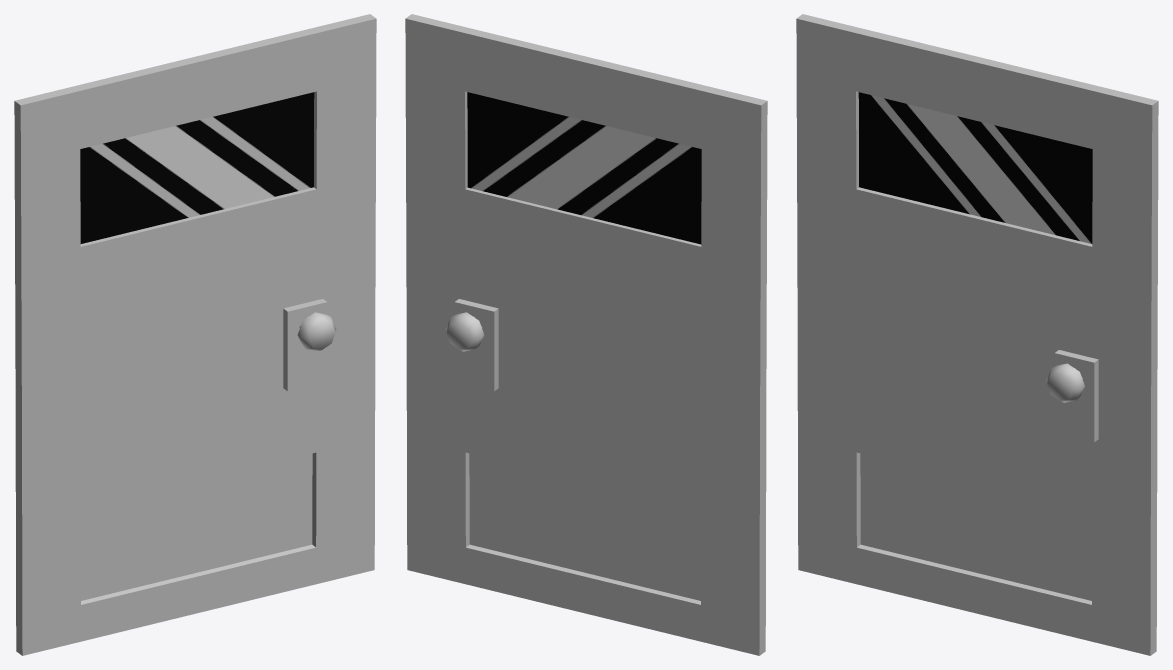
The model's file is door03b.fbx.
3 renders of one model, left to right at view 1: azimuth 30°, elevation 25°; view 2: azimuth 150°, elevation 25°; view 3: azimuth 330°, elevation 25°, orthographic.
Visible parts, largest first — view 1: door03b; view 2: door03b; view 3: door03b.
Part boxes in pixels (left/top/right/bottom): door03b: left=14, top=14, right=376, bottom=655; door03b: left=405, top=14, right=767, bottom=655; door03b: left=796, top=14, right=1158, bottom=655.
Bounding box in the file's own units: 218 × 323 × 47.68.
